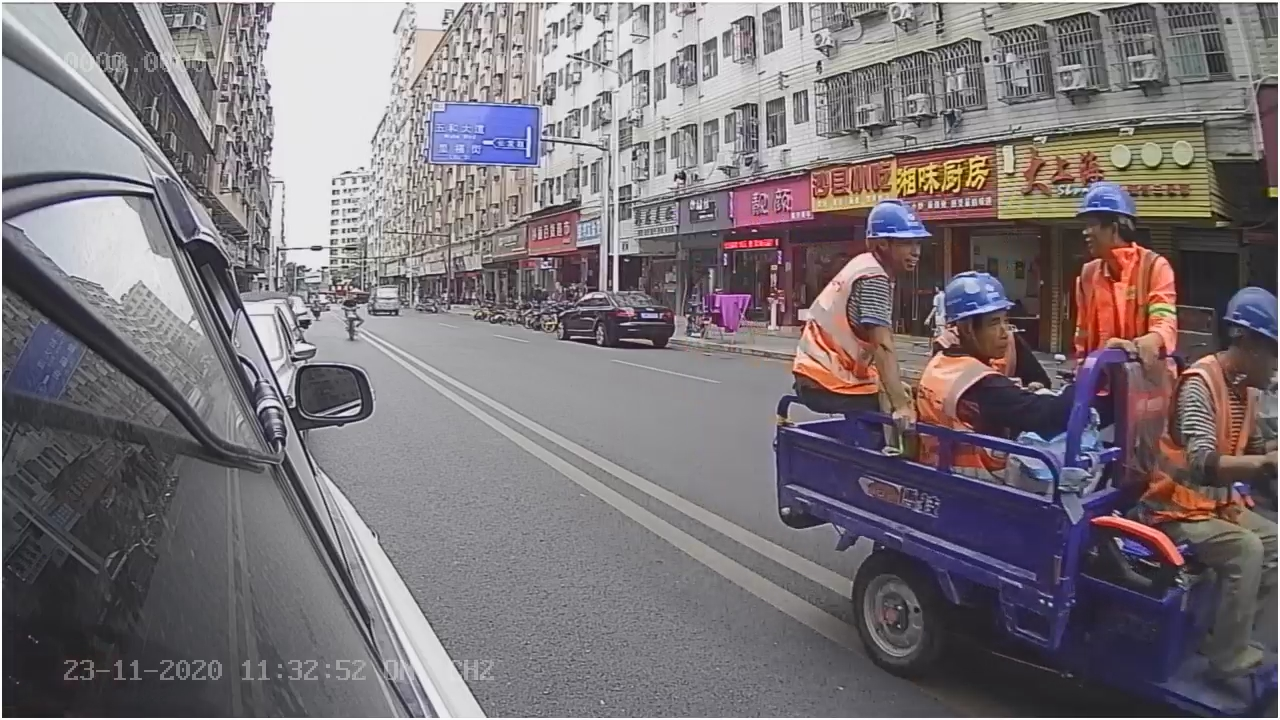person: (915, 267, 1057, 426)
